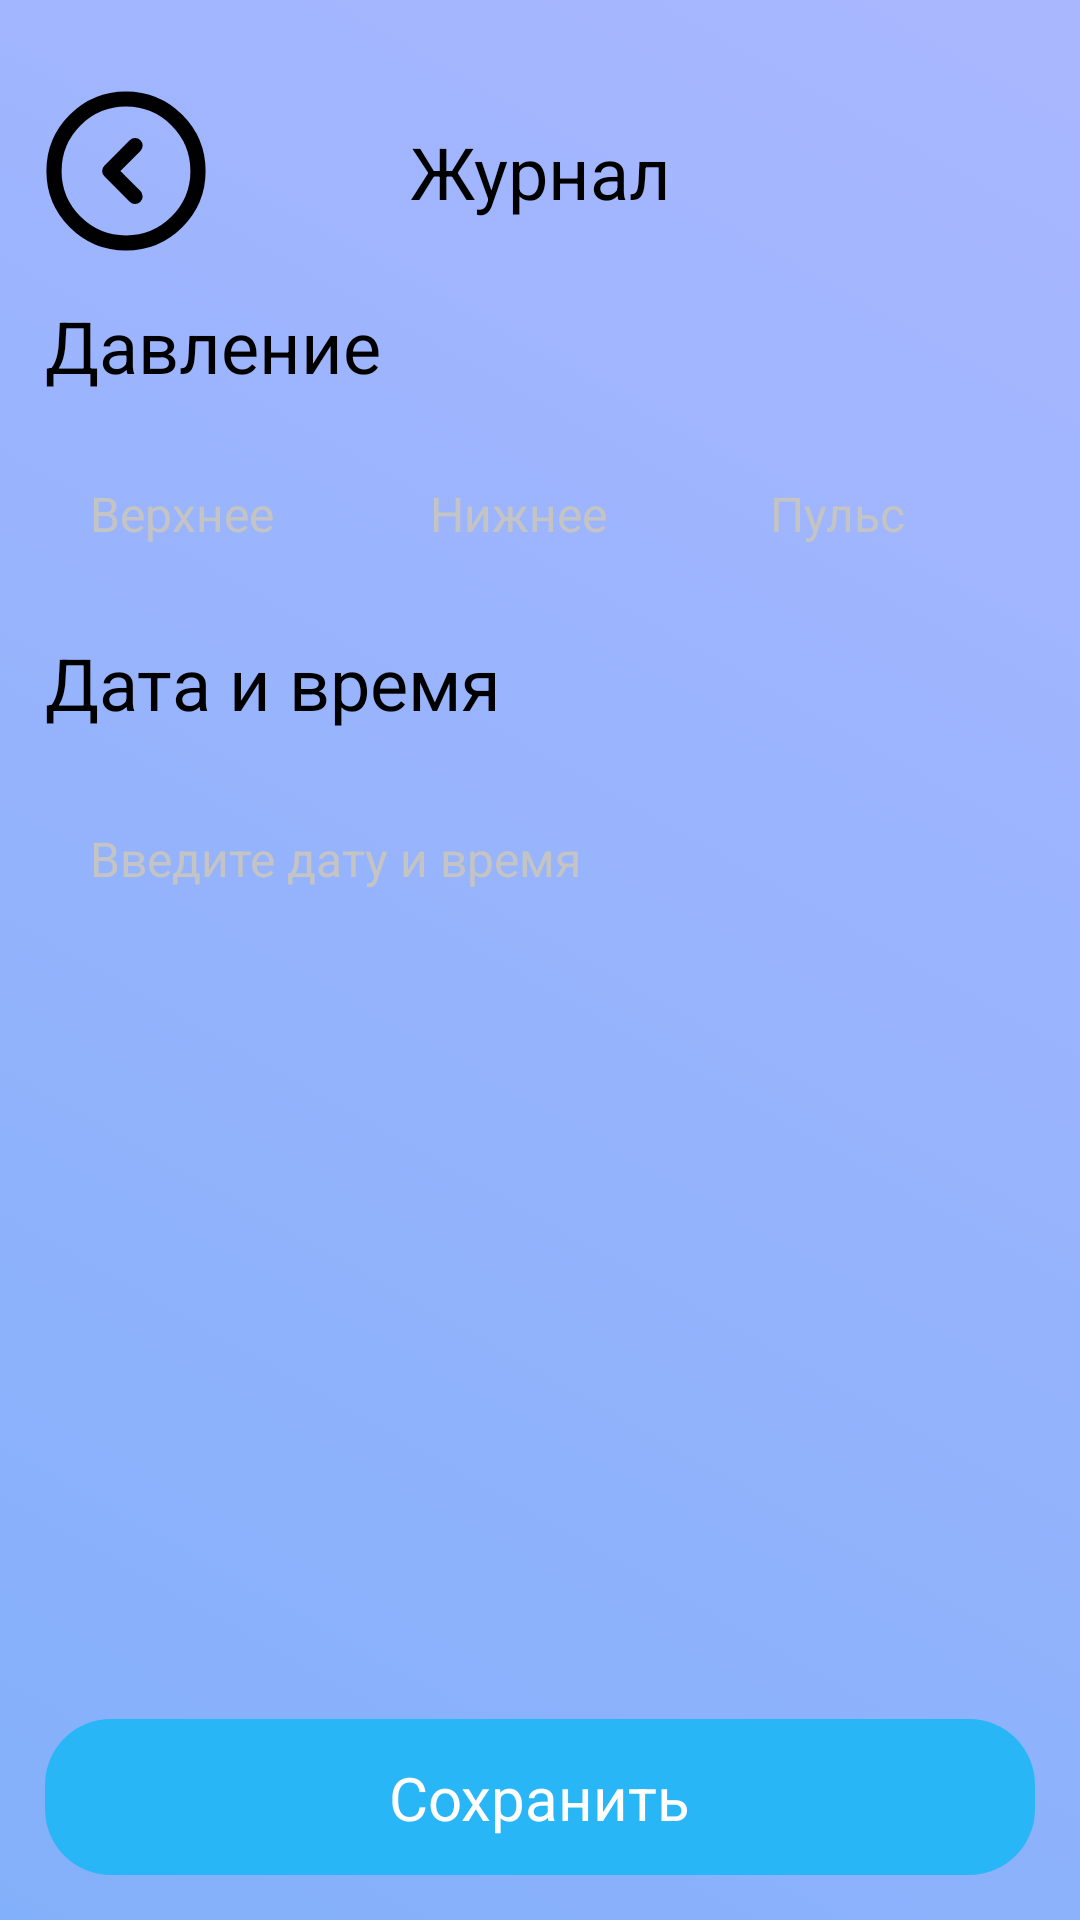

Icons on this 1080 × 1920 Android screen, each with the point to tap as point (x, y):
arrow left: point (126, 171)
